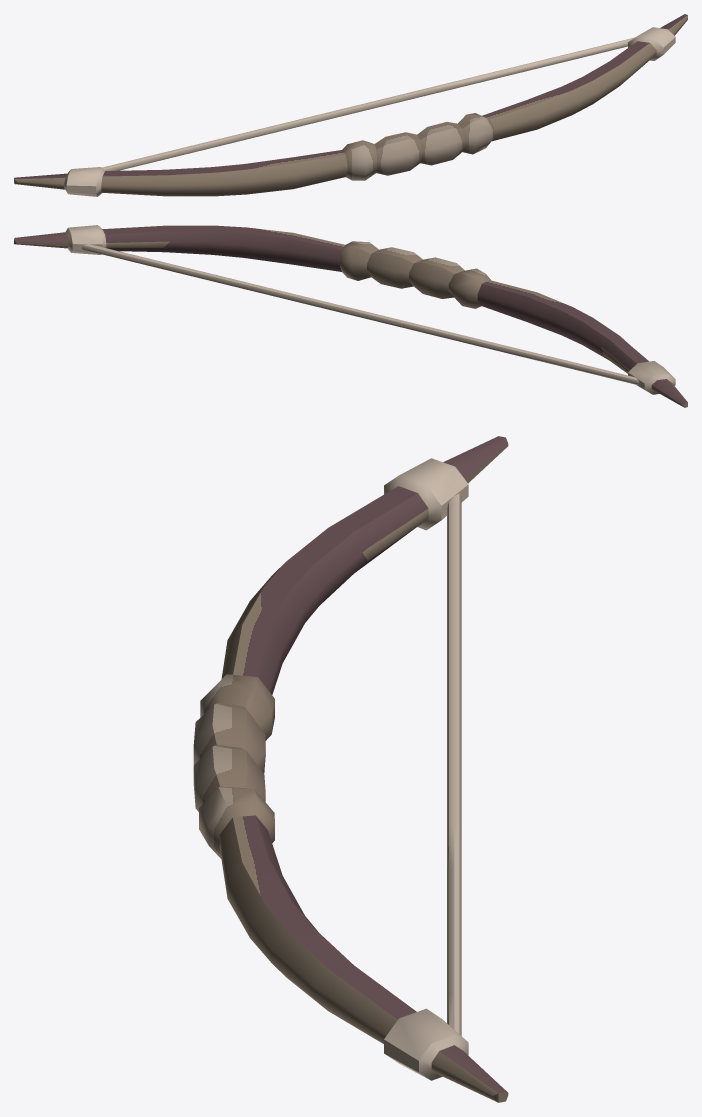
The model's file is w_bow_A_withString.glb.
The picture shows the model from 3 angles, top to bottom: view 1: azimuth 30°, elevation 25°; view 2: azimuth 150°, elevation 25°; view 3: azimuth 270°, elevation 25°; orthographic projection. The views are drawn at different scales.
Parts seen in each view (by area): view 1: bow_A_withString; view 2: bow_A_withString; view 3: bow_A_withString.
Boxes of the visible parts, left/top/right/bottom form: bow_A_withString: left=14, top=14, right=687, bottom=196; bow_A_withString: left=14, top=225, right=687, bottom=407; bow_A_withString: left=193, top=436, right=508, bottom=1102.
Size of the model in its own units: 1.96 by 0.0915 by 0.3957.
1 material, 1 textured.
